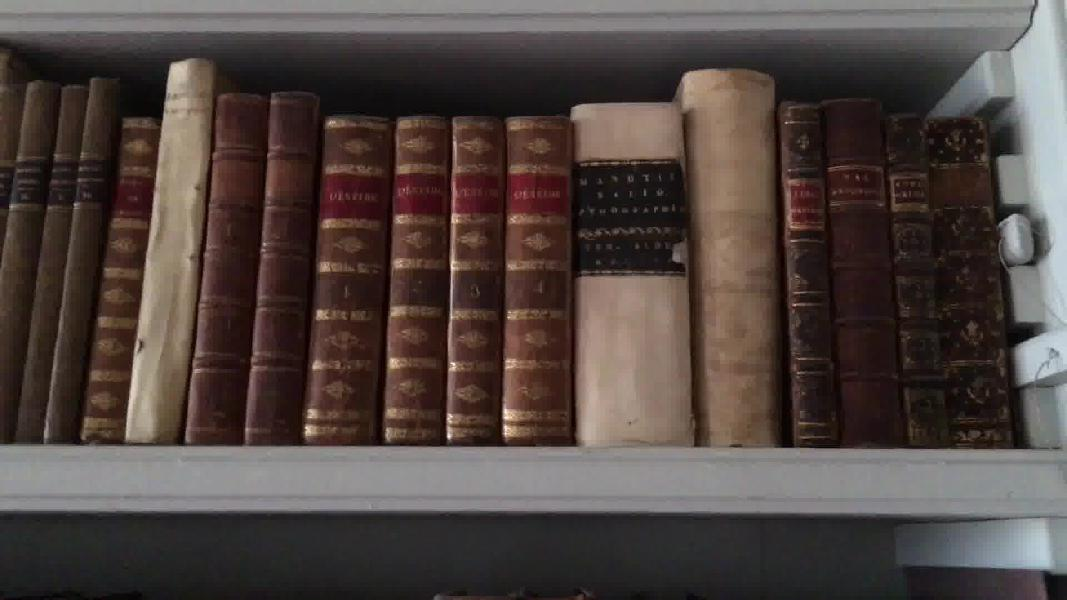Kk4-17_18: (15, 65, 121, 444)
Kk4-19: (75, 107, 161, 451)
Kk4-20: (119, 47, 219, 450)
Kk4-21_22: (181, 81, 328, 450)
Kk4-23_26: (308, 105, 581, 451)
Kk4-27: (552, 85, 704, 451)
Kk4-28: (674, 62, 788, 452)
Kk4-29: (766, 89, 843, 465)
Kk4-30: (817, 84, 908, 452)
Kk4-31: (882, 105, 948, 459)
Kk4-32: (928, 109, 1023, 457)
